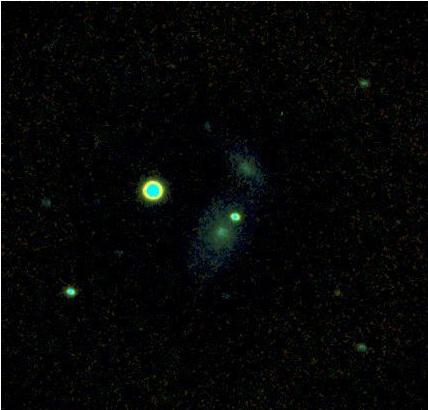star: (323, 278, 353, 308)
